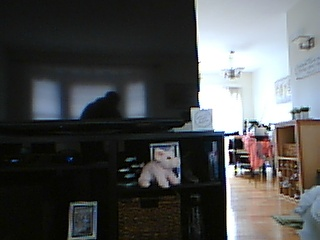piggy: (136, 145, 181, 190)
